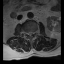CCS_stenosis: (29, 30, 31, 38)
LFS_normal: (33, 30, 35, 36)
LLS_normal: (31, 30, 33, 37)
RFS_normal: (26, 30, 27, 37)
RLS_normal: (27, 30, 29, 36)
